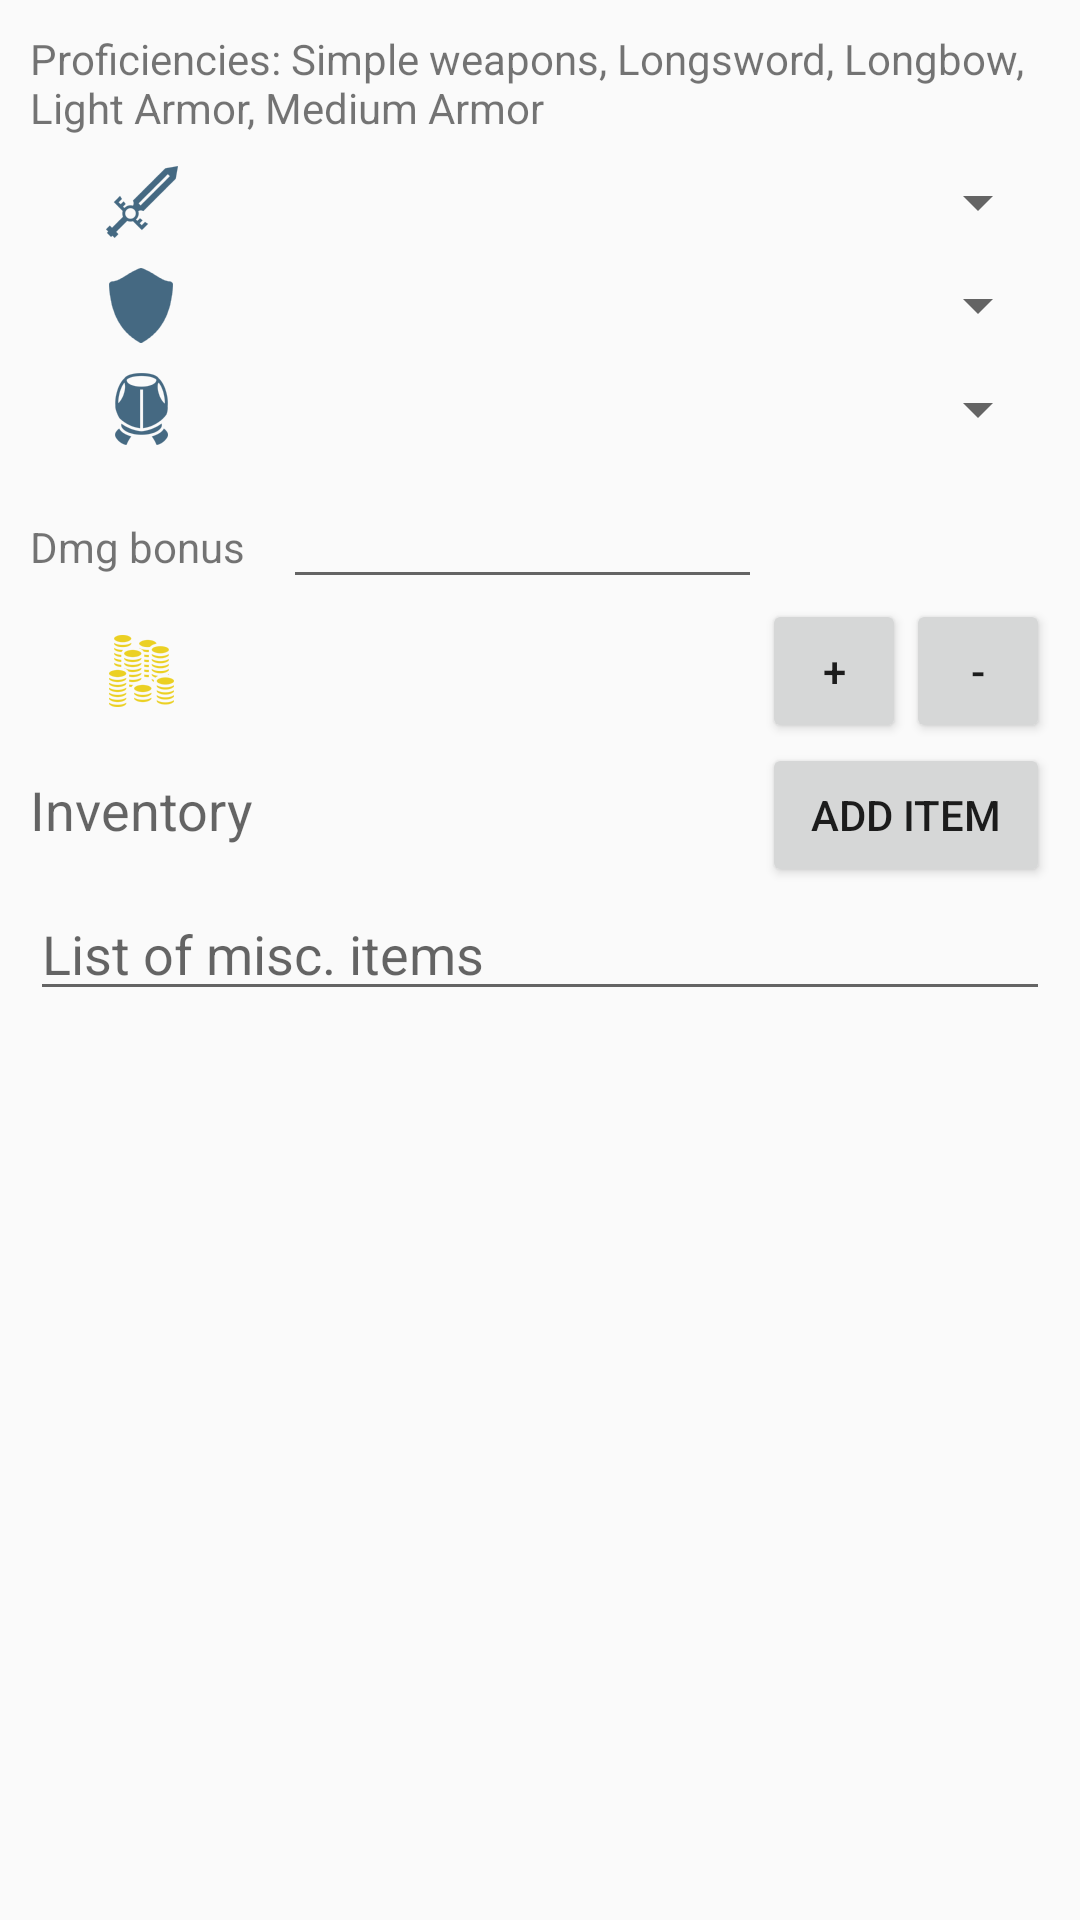

Icons on this 1080px x 1920px Android screen, each with the point to tap as [x,y]:
armor vest: [141,409]
broadsword: [142,202]
coins: [141,671]
shield: [141,305]
